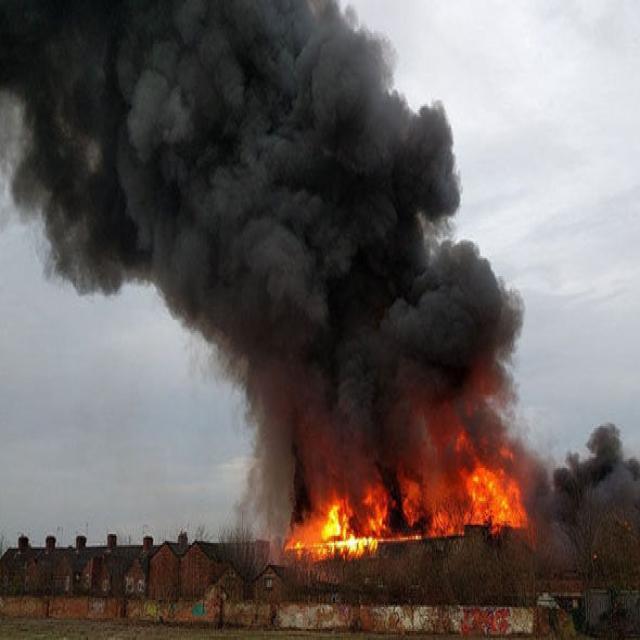Fire: (278, 456, 532, 562)
Smoke: (0, 0, 398, 287), (400, 94, 522, 452), (236, 292, 398, 452), (555, 420, 639, 640)
